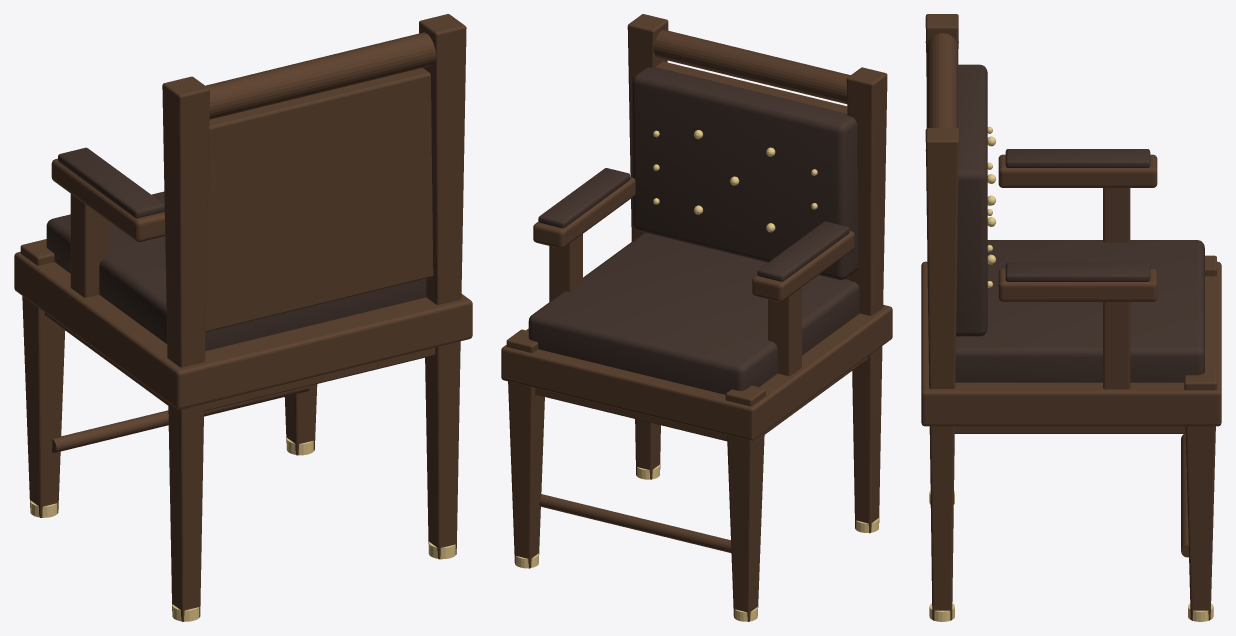
Rendered from NoirChair.fbx.
3 renders of one model, left to right at view 1: azimuth 30°, elevation 25°; view 2: azimuth 150°, elevation 25°; view 3: azimuth 270°, elevation 25°, orthographic. The views are drawn at different scales.
Parts seen in each view (by area): view 1: NoirChair; view 2: NoirChair; view 3: NoirChair.
Boxes of the visible parts, left/top/right/bottom form: NoirChair: left=14, top=14, right=472, bottom=621; NoirChair: left=501, top=14, right=892, bottom=621; NoirChair: left=921, top=14, right=1221, bottom=621.
Size of the model in its own units: 56 by 96 by 54.
